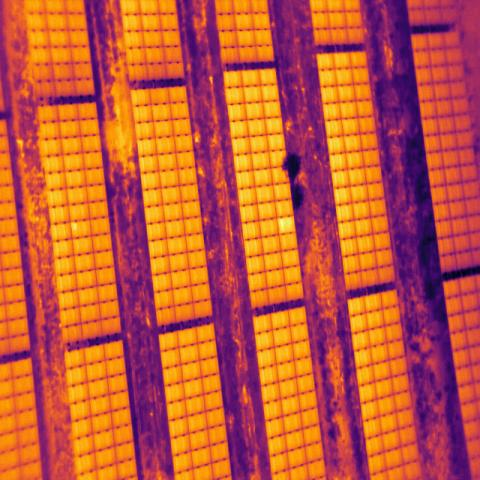fault: (277, 215, 297, 236)
